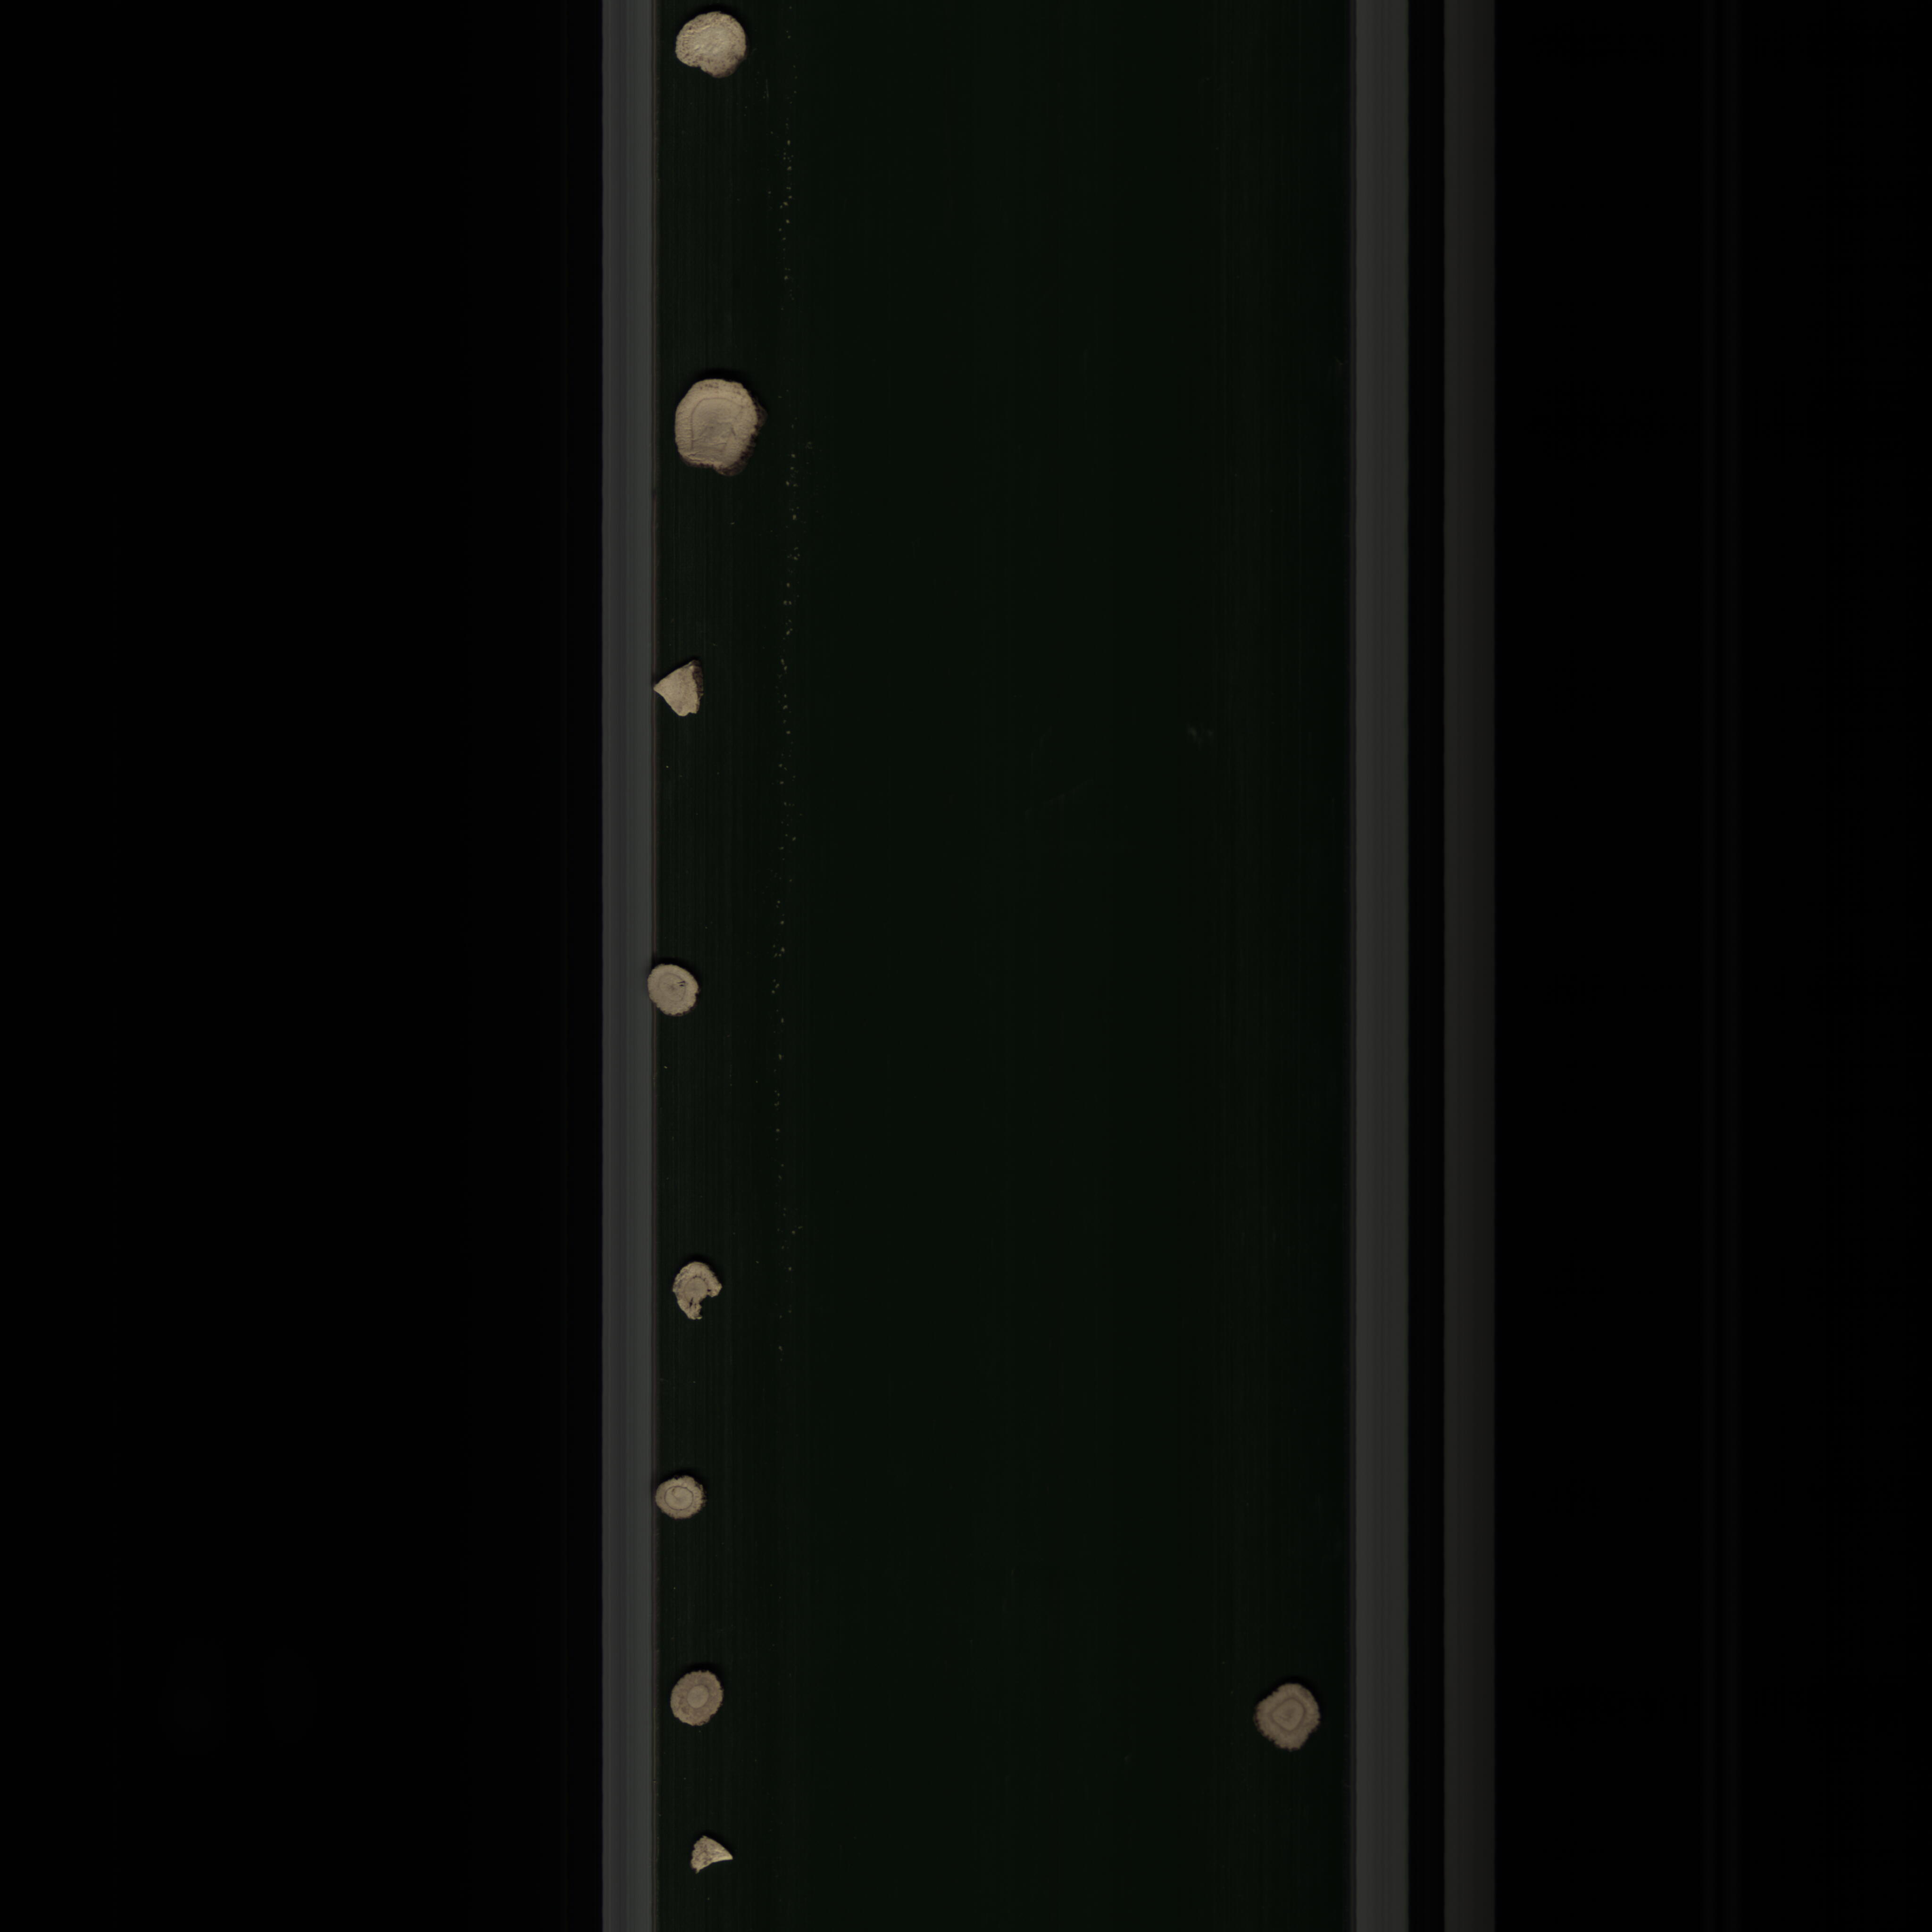debris: (649, 653, 715, 732), (669, 1253, 732, 1332), (683, 1831, 747, 1875)
